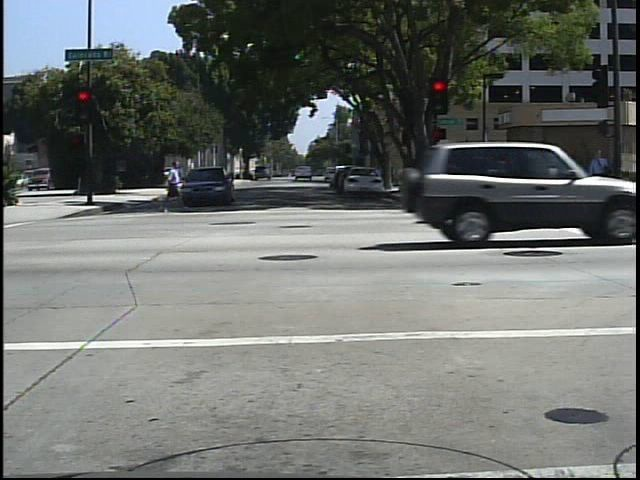person: (586, 143, 618, 209), (157, 155, 187, 213)
